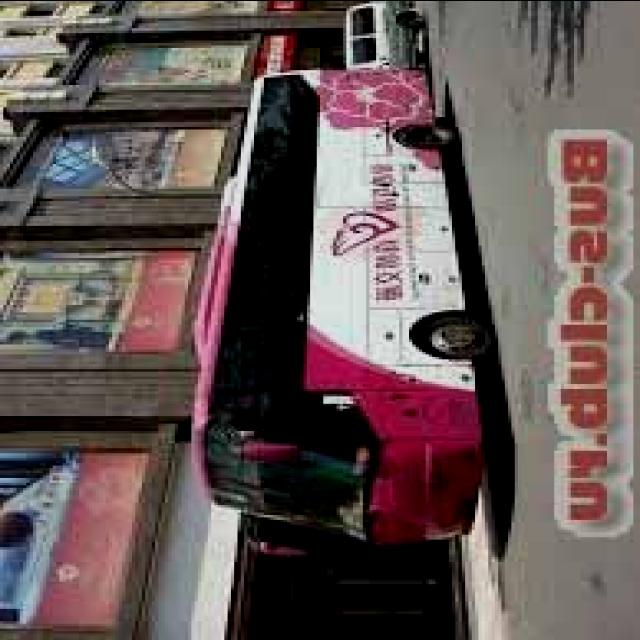bus: (179, 60, 493, 562)
